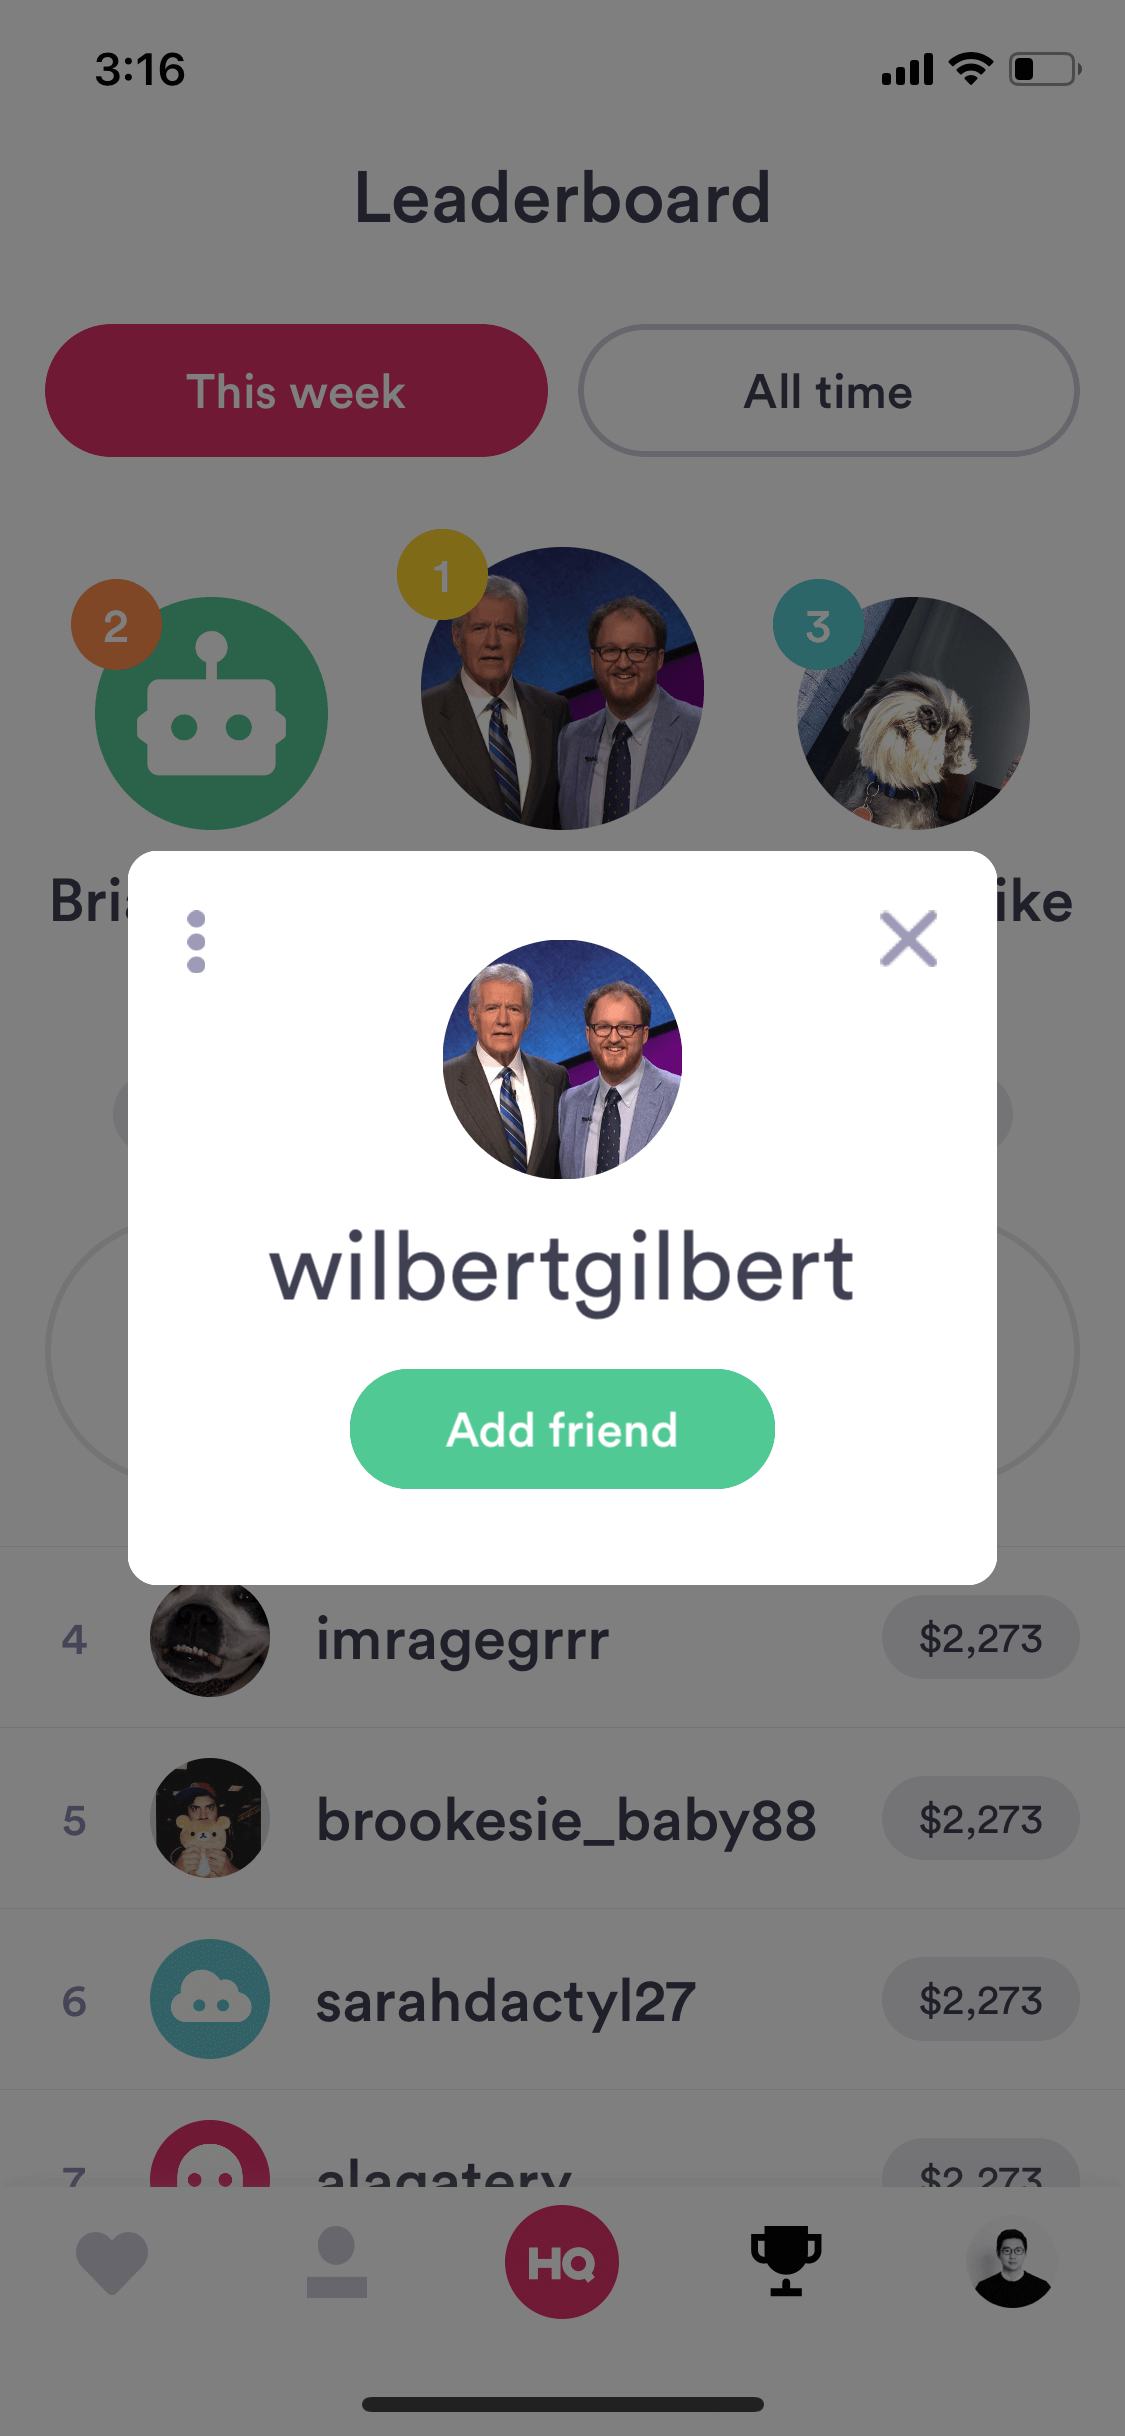Buttons: (576, 308, 1083, 466), (39, 312, 555, 461), (340, 1356, 782, 1499), (143, 886, 253, 996), (856, 890, 954, 990)
